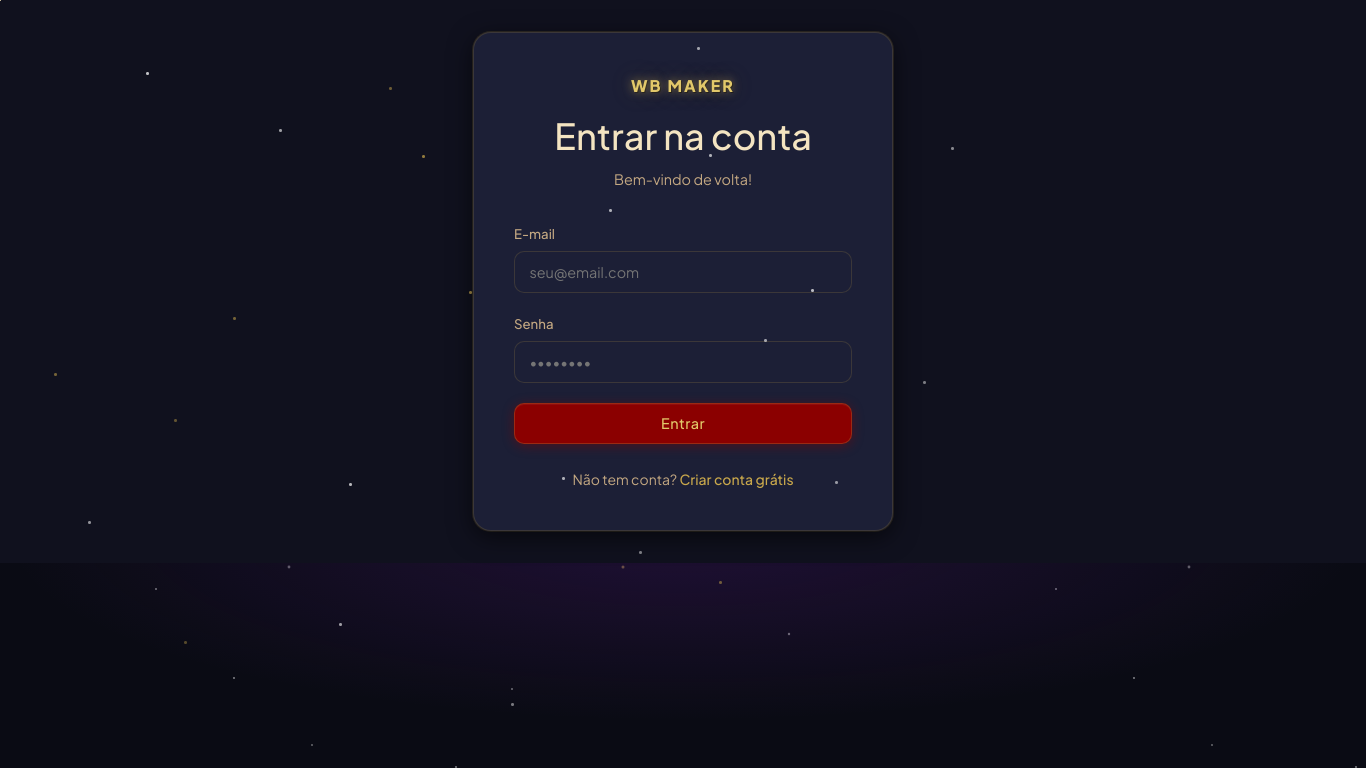
Test: LoginPage — integração › botão fica desabilitado durante o carregamento
Type "a@b.com" into the field labelled "E-mail" at (683, 272), box 514,251 -> 852,293
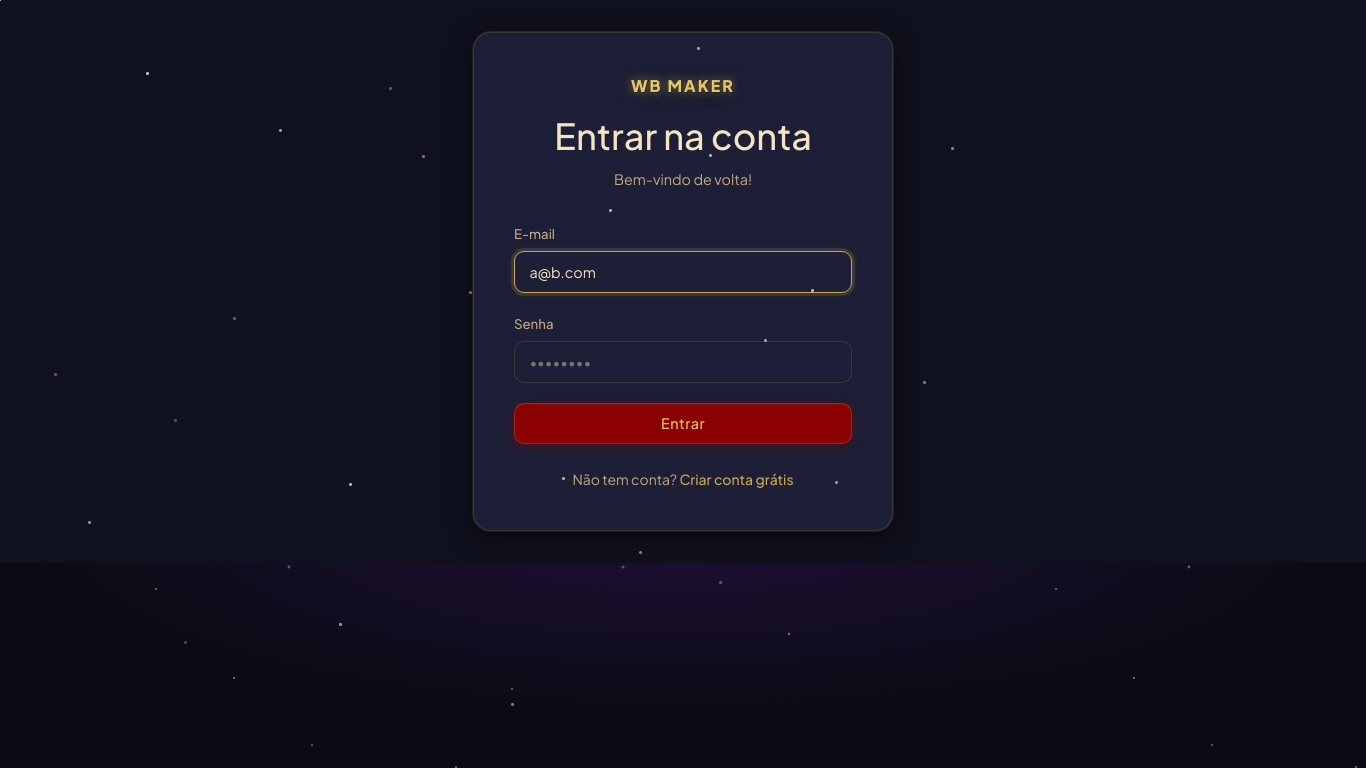
Type "123456" into the password field labelled "Senha" at (683, 362), box 514,341 -> 852,383
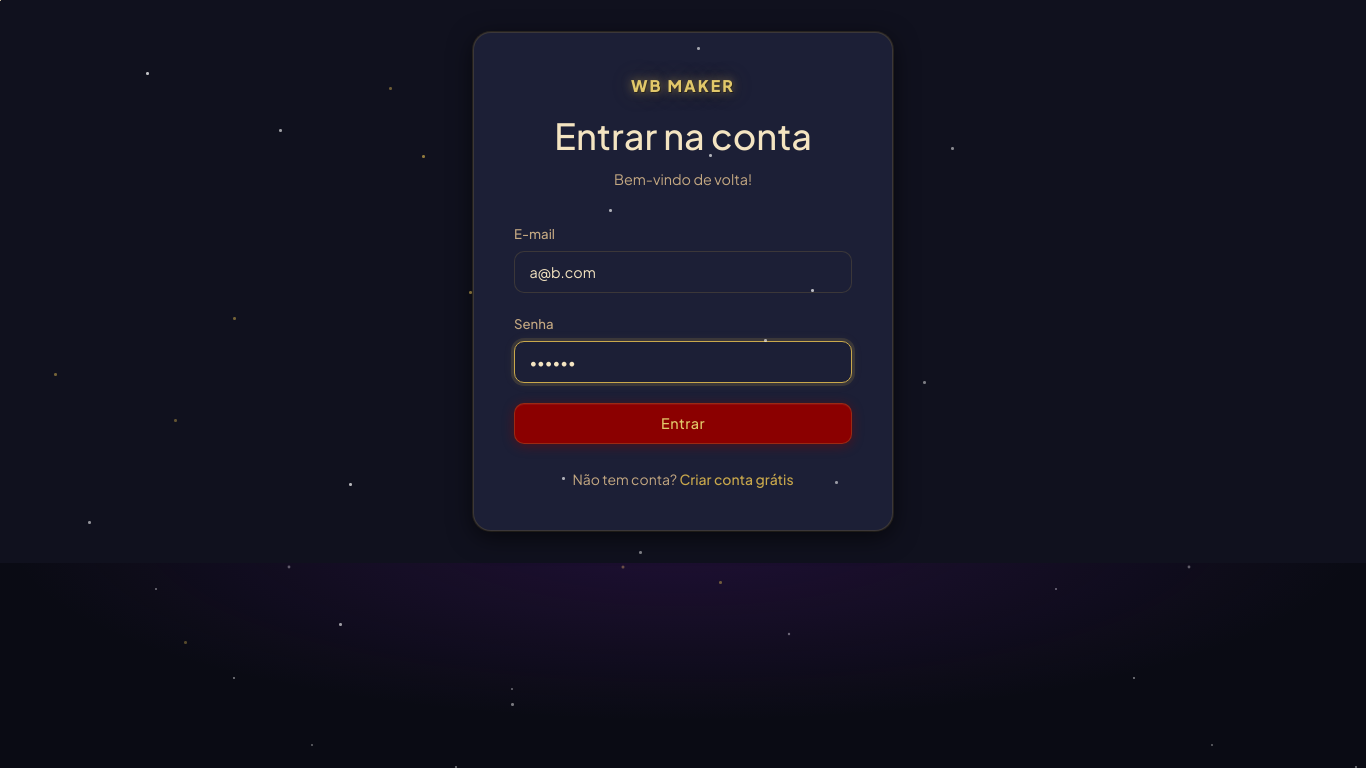
Click the button "Entrar" at (683, 423), box 514,403 -> 852,444
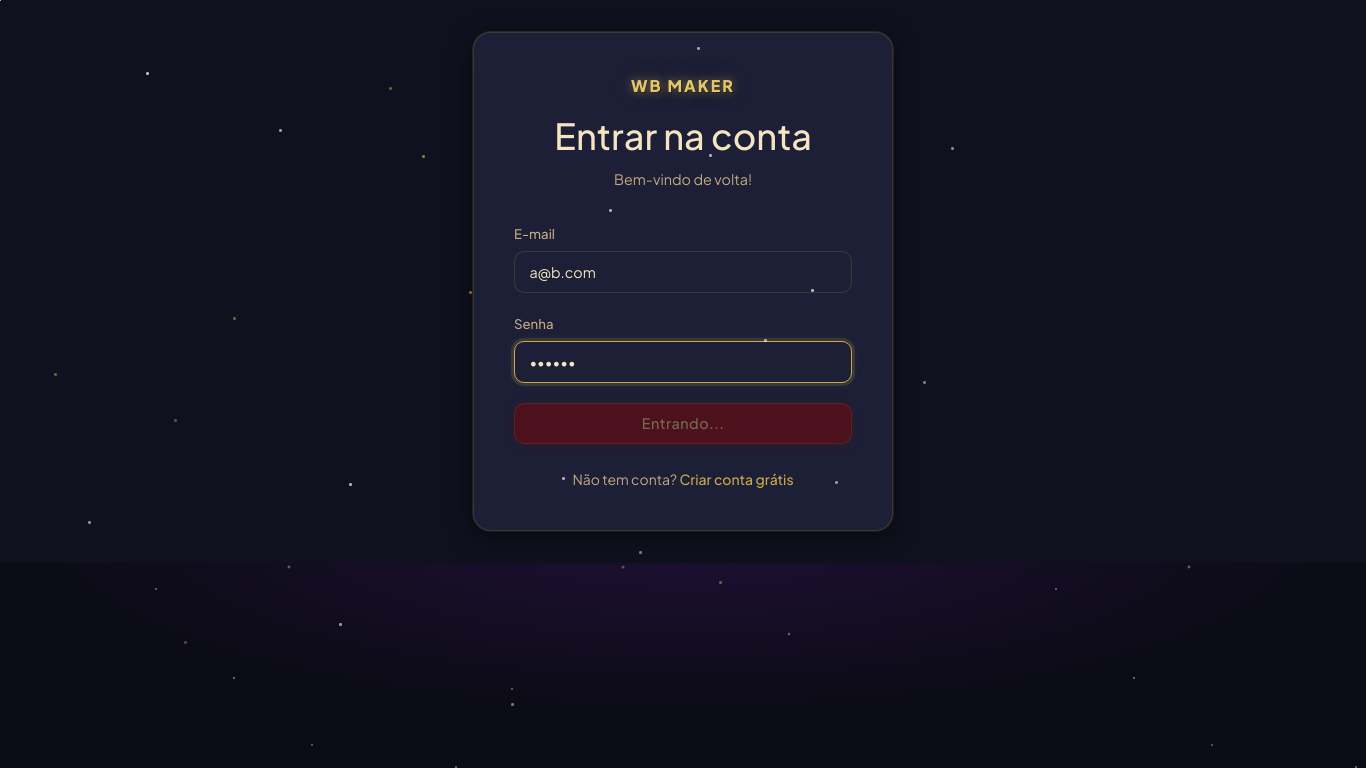
Check: the button "Entrando..." is disabled, box 514,403 -> 852,444
